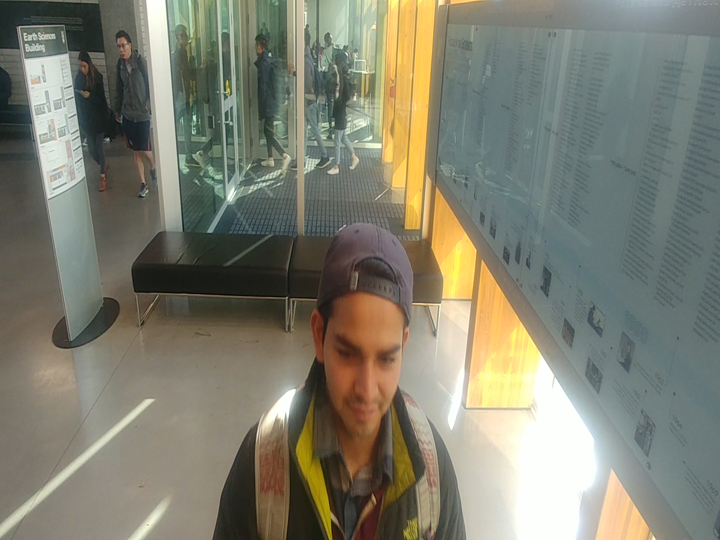face: (304, 216, 420, 440), (111, 27, 138, 62), (70, 46, 96, 77), (247, 28, 271, 58)
human: (202, 217, 478, 540), (108, 27, 159, 201), (248, 29, 296, 176), (71, 47, 118, 193), (327, 51, 363, 181)
